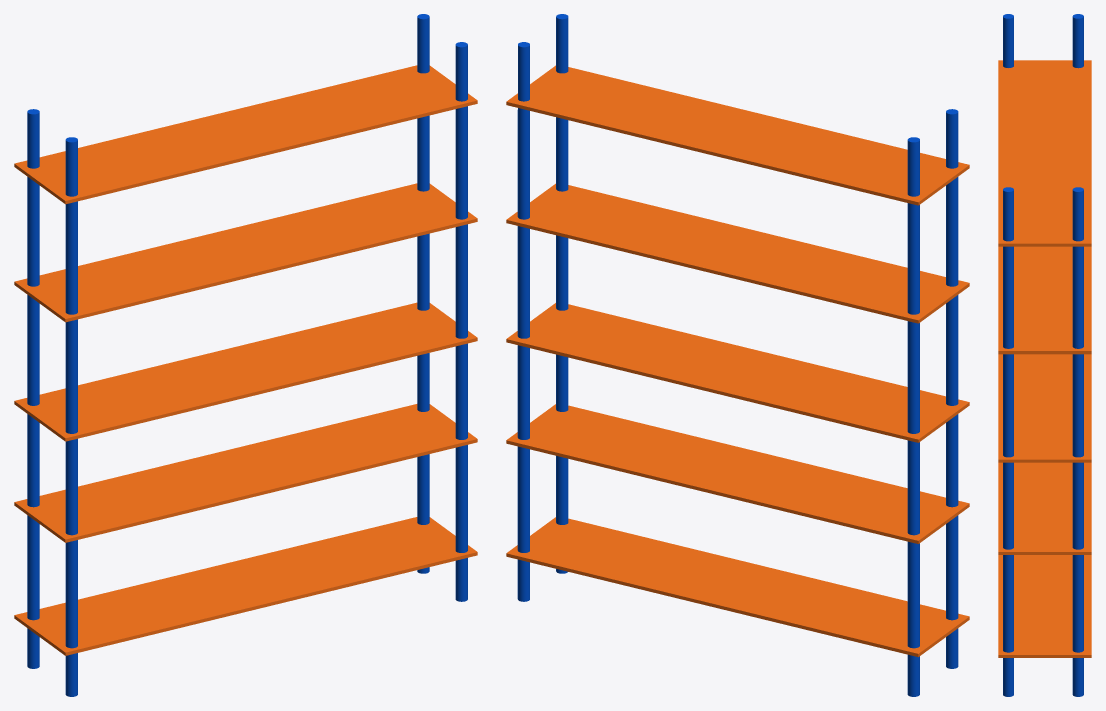
File: ESTANTERÍA EWALLIZON.fbx
3 renders of one model, left to right at view 1: azimuth 30°, elevation 25°; view 2: azimuth 150°, elevation 25°; view 3: azimuth 270°, elevation 25°, orthographic. The views are drawn at different scales.
Visible parts, largest first — view 1: Cube_001, Cube_001_1, Cube_002, Cube_004, Cube_003, Cylinder_003, Cylinder_002, Cylinder, Cylinder_001; view 2: Cube_001_1, Cube_001, Cube_002, Cube_003, Cube_004, Cylinder, Cylinder_001, Cylinder_003, Cylinder_002; view 3: Cube_001, Cube_001_1, Cube_002, Cube_004, Cube_003, Cylinder_001, Cylinder_002, Cylinder, Cylinder_003.
Boxes of the visible parts, box(x1,y1,x2,y2) form: Cube_001: box(14, 65, 477, 204); Cube_001_1: box(14, 183, 477, 322); Cube_002: box(14, 302, 477, 441); Cube_004: box(14, 517, 477, 655); Cube_003: box(14, 404, 477, 542); Cylinder_003: box(65, 137, 77, 696); Cylinder_002: box(455, 42, 467, 601); Cylinder: box(27, 109, 39, 668); Cylinder_001: box(417, 14, 429, 573); Cube_001_1: box(506, 183, 969, 323); Cube_001: box(506, 65, 969, 205); Cube_002: box(506, 303, 969, 442); Cube_003: box(506, 404, 969, 543); Cube_004: box(506, 517, 969, 657); Cylinder: box(907, 137, 919, 696); Cylinder_001: box(517, 42, 529, 601); Cylinder_003: box(946, 109, 958, 668); Cylinder_002: box(556, 14, 568, 573); Cube_001: box(998, 60, 1091, 246); Cube_001_1: box(998, 246, 1091, 354); Cube_002: box(998, 354, 1091, 462); Cube_004: box(998, 555, 1091, 657); Cube_003: box(998, 462, 1091, 554); Cylinder_001: box(1072, 187, 1083, 696); Cylinder_002: box(1003, 187, 1013, 696); Cylinder: box(1072, 14, 1083, 68); Cylinder_003: box(1003, 14, 1013, 67).
Bounding box in the file's own units: 182 × 234 × 39.12.
